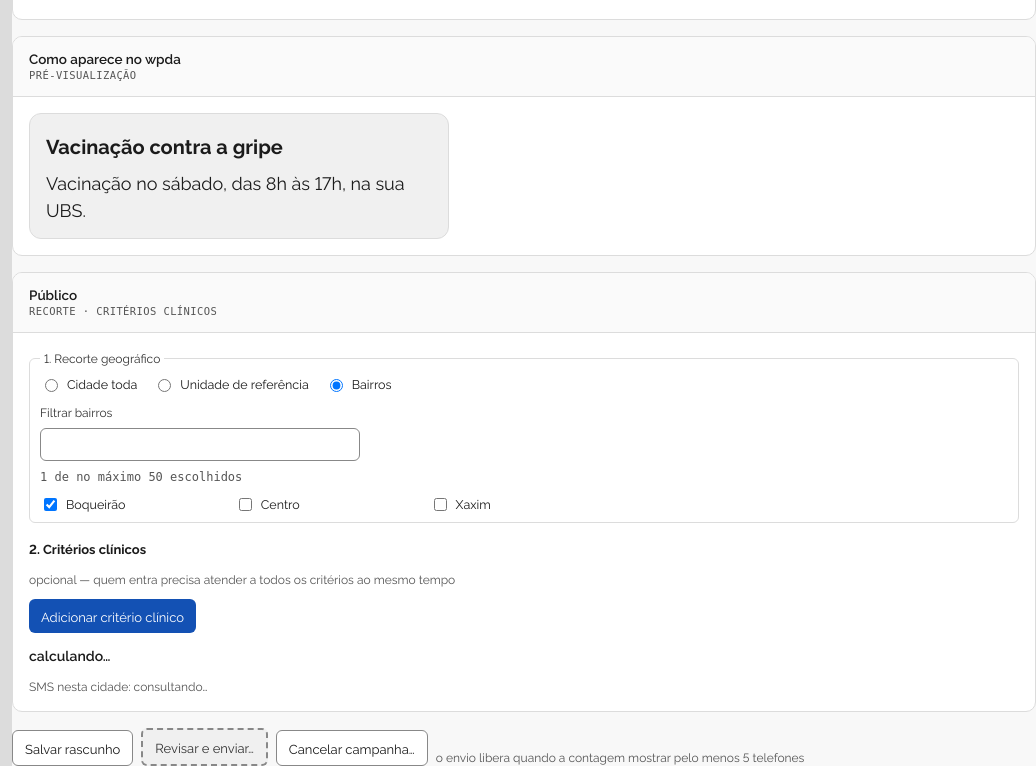
CampaignEditor › recusa not_editable aparece traduzida
This screenshot has width=1036, height=766.
(page scrolled)
Click the button "Salvar rascunho" at (73, 748), box x1=12 y1=730 x2=133 y2=765
(page scrolled)
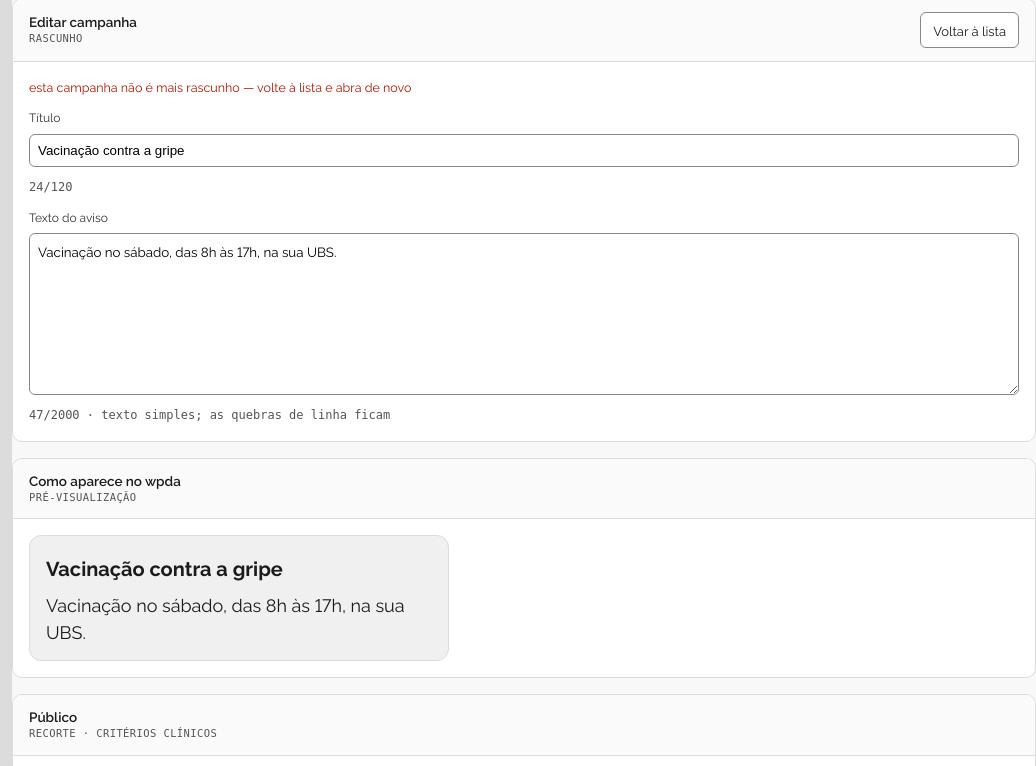
Check: the text "esta campanha não é mais rascunho — volte à lista e abra de novo" is shown, box x1=29 y1=78 x2=411 y2=95
